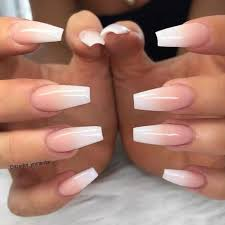nail: (130, 84, 197, 111), (33, 85, 93, 111), (155, 23, 212, 49), (12, 18, 63, 45), (47, 125, 103, 149), (132, 123, 192, 145), (162, 166, 206, 190), (60, 167, 99, 194), (79, 28, 104, 48), (104, 24, 131, 38)
